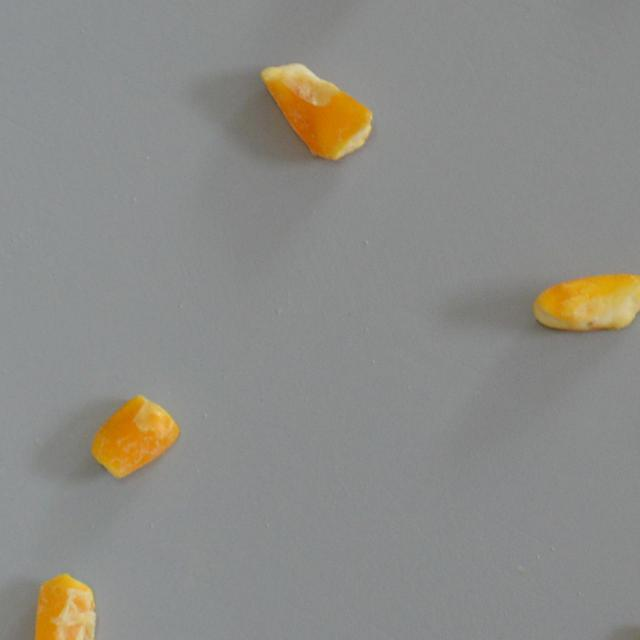pelicula: (260, 60, 374, 166), (88, 392, 182, 478), (23, 560, 108, 640)
punto_negro: (516, 270, 640, 338)
